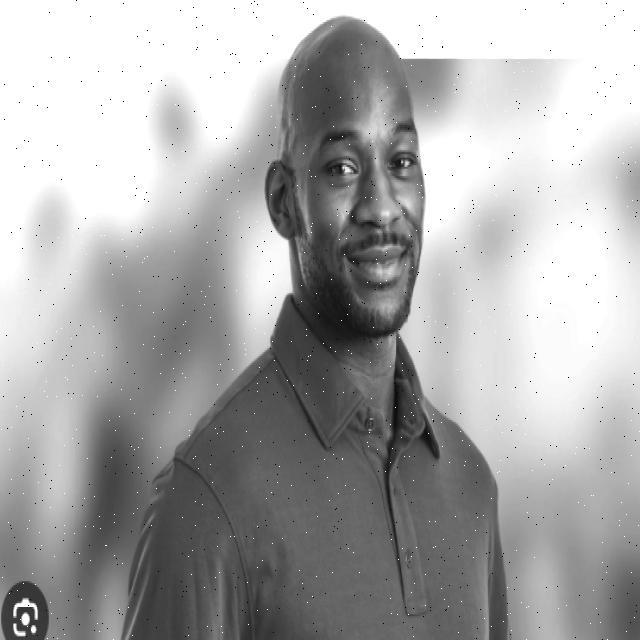face_no_mask: (266, 61, 427, 329)
